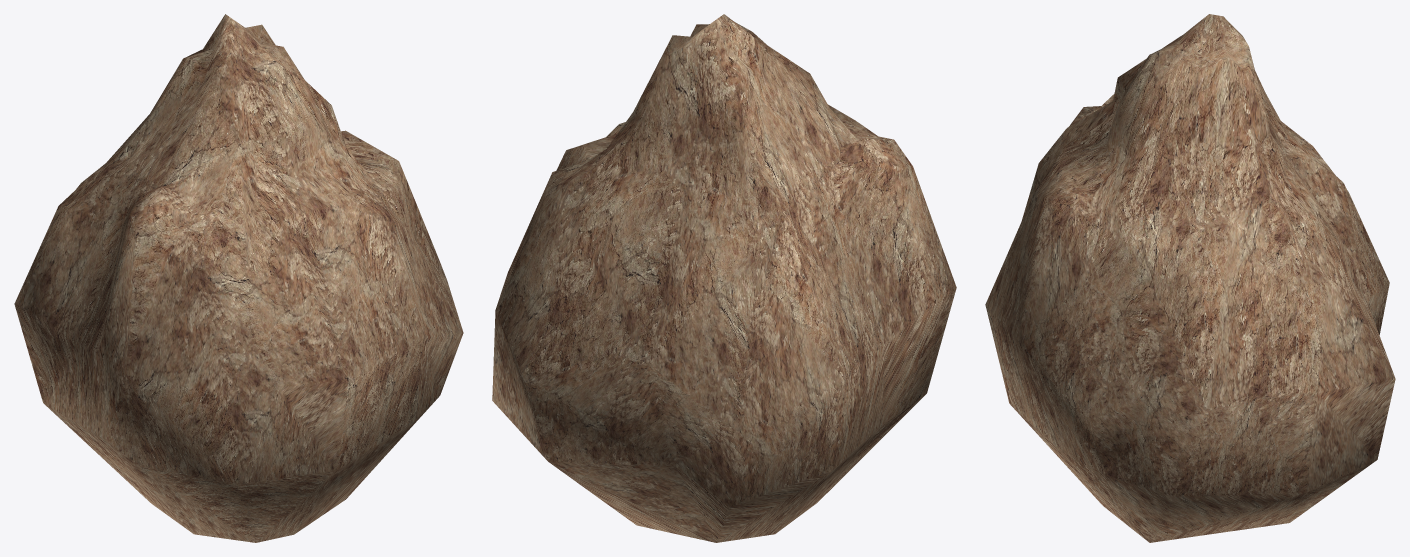
File: rock_tatt_boulder_tan_a1_l0.fbx
3 renders of one model, left to right at view 1: azimuth 30°, elevation 25°; view 2: azimuth 150°, elevation 25°; view 3: azimuth 270°, elevation 25°, orthographic. The views are drawn at different scales.
Parts seen in each view (by area): view 1: mesh_node; view 2: mesh_node; view 3: mesh_node.
Boxes of the visible parts, bbox=[...] form: mesh_node: bbox=[14, 14, 463, 542]; mesh_node: bbox=[492, 14, 956, 542]; mesh_node: bbox=[985, 14, 1395, 542].
Bounding box in the file's own units: 5.44 × 6.69 × 5.11.
